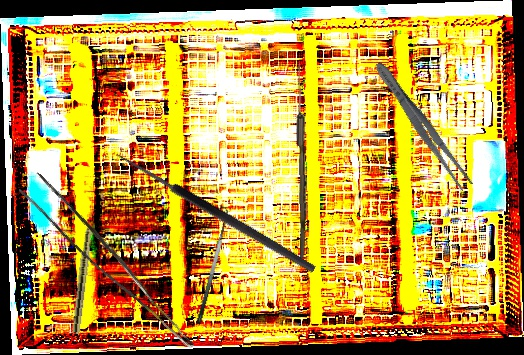Dressing Forceps: (369, 58, 476, 193)
Handpiece: (71, 207, 97, 335)
Hook Surgical: (107, 149, 318, 284)
Spatula Surgical: (186, 204, 235, 326)
Surgical Spoon: (293, 62, 310, 259)
Tissue Forceps: (13, 170, 213, 350)
